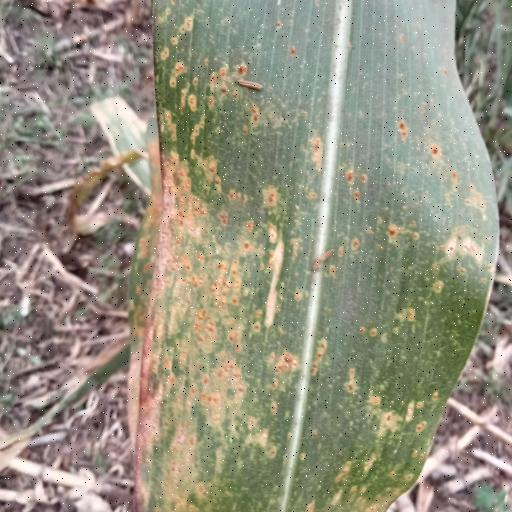Corn_Rust: (133, 0, 512, 512)
